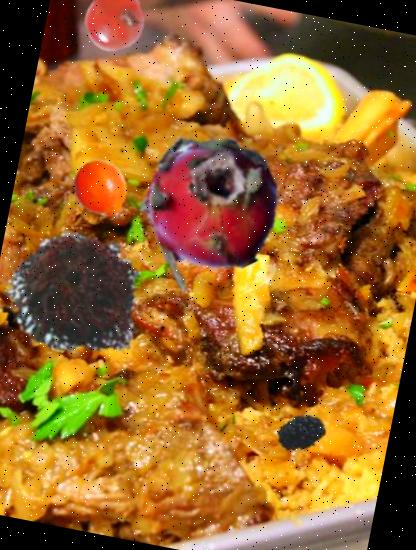Mulberry: (269, 394, 335, 460)
Pitahaya: (126, 115, 298, 287)
Rambutan: (0, 212, 168, 383)
Redcurrant: (79, 0, 151, 58)
Tangelo: (66, 154, 136, 224)
